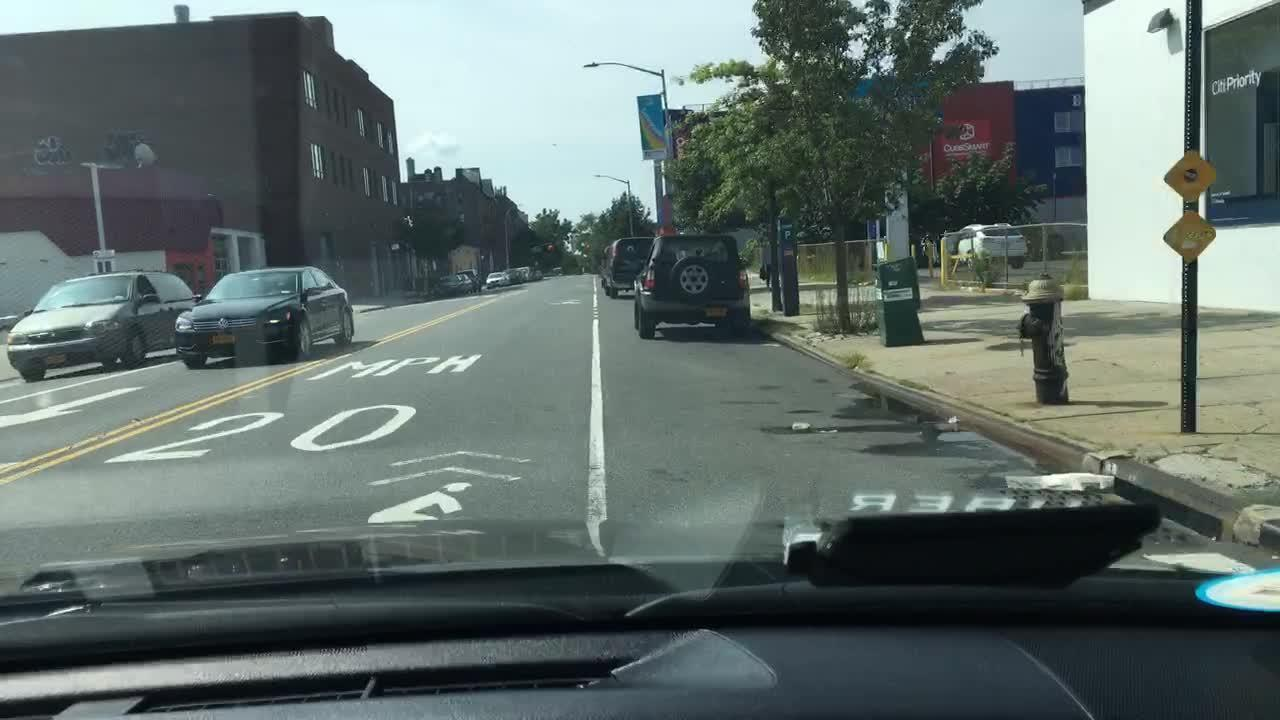Volkswagen: (214, 312, 231, 333)
